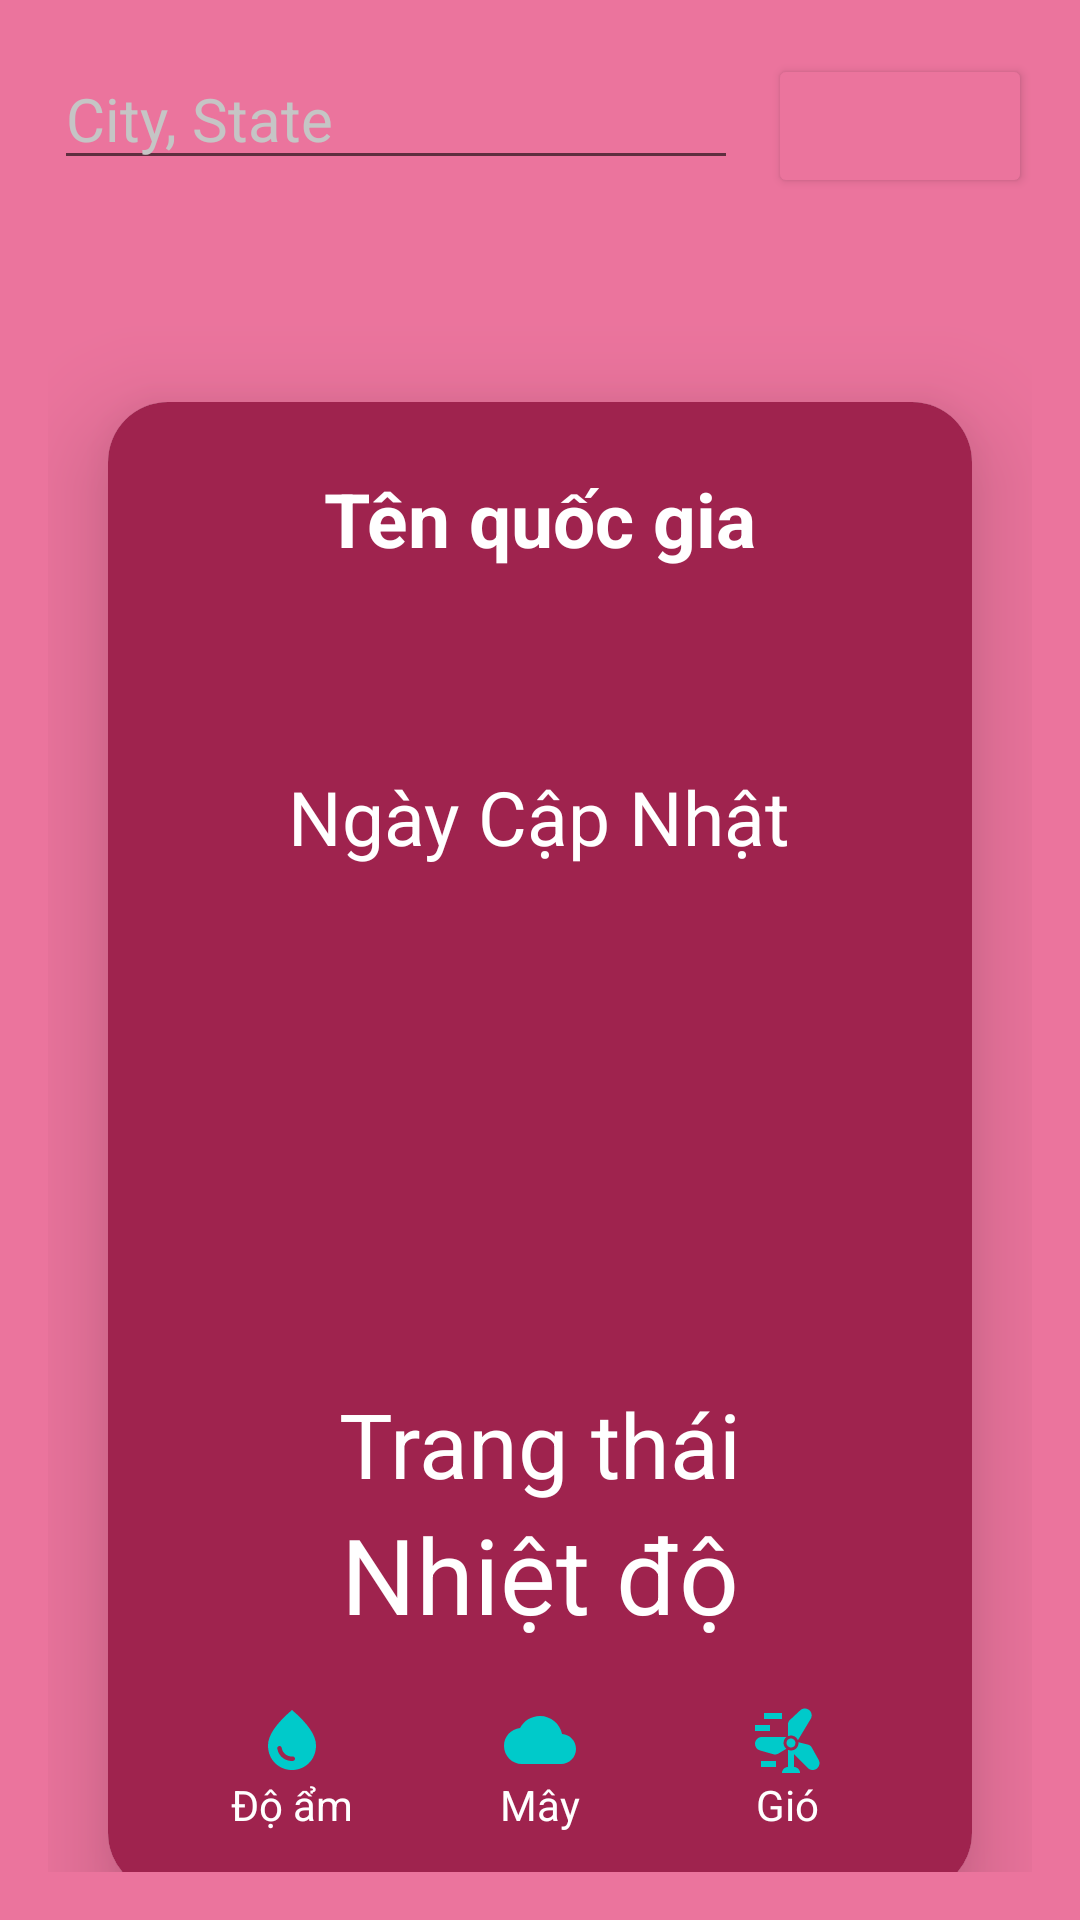

Where icons sit on this 1080 x 1920 app screen, as [x1, y1, x2, y2]:
water drop: [268, 1710, 316, 1770]
wind power: [755, 1708, 820, 1773]
